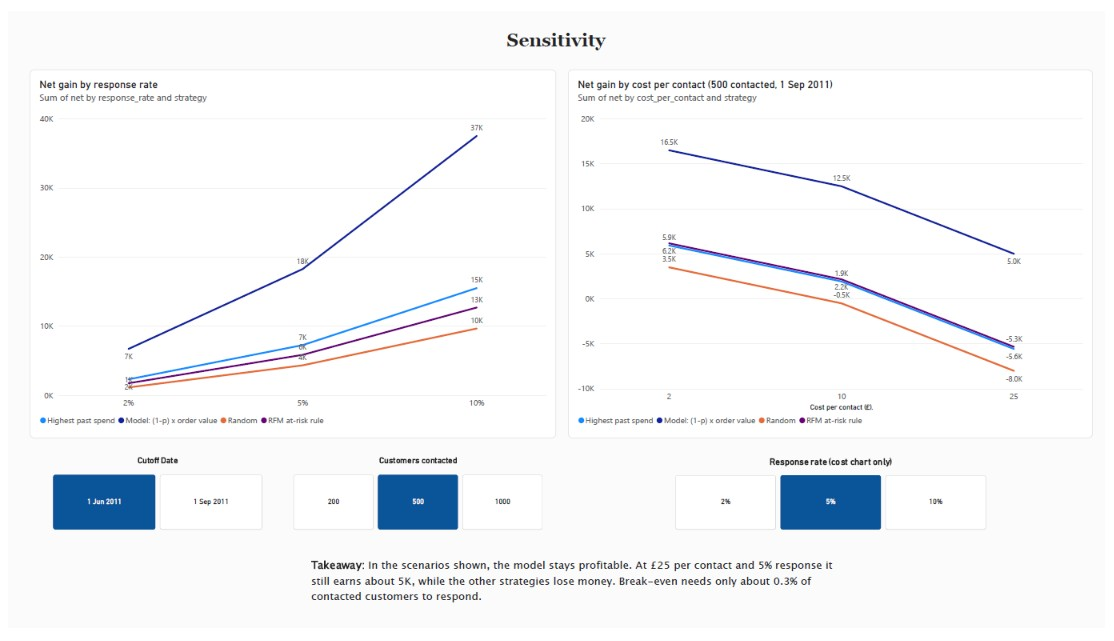

What the dashboard file says about the page in this screenshot:
{"tool":"powerbi","page":{"name":"Sensitivity","canvas":[1920,1080],"ordinal":4},"visuals":[{"type":"textbox","box":[0,33.3,1920,45],"z":0},{"type":"lineChart","title":"Net gain by response rate","fields":{"Category":["backtest_sensitivity.response_rate"],"Series":["backtest_sensitivity.strategy"],"Y":["Sum(backtest_sensitivity.net)"]},"box":[37.5,102.1,922.9,645.8],"z":1000},{"type":"advancedSlicerVisual","title":"Cutoff Date","fields":{"Values":["backtest_sensitivity.cutoff"]},"box":[79.2,779.2,366.7,129.2],"z":2000},{"type":"advancedSlicerVisual","title":"Customers contacted","fields":{"Values":["backtest_sensitivity.n_target"]},"box":[500,779.2,437.5,129.2],"z":3000},{"type":"lineChart","title":"Net gain by cost per contact (500 contacted, 1 Sep 2011)","fields":{"Category":["backtest_cost_sensitivity.cost_per_contact"],"Series":["backtest_cost_sensitivity.strategy"],"Y":["Sum(backtest_cost_sensitivity.net)"]},"box":[981.2,102.1,918.8,645.8],"z":4000},{"type":"advancedSlicerVisual","title":"Response rate (cost chart only)","fields":{"Values":["backtest_cost_sensitivity.response_rate"]},"box":[1168.8,779.2,545,128.3],"z":5000},{"type":"textbox","box":[531.2,956.2,931.2,122.9],"z":5001}]}

Visuals, with their boxes in screenshot pixels (x1, y1, x2, y2), scaled from the page's 1920x1080 canvas onto the 1114x641 screenshot:
textbox: x1=0 y1=20 x2=1113 y2=46
"Net gain by response rate" lineChart: x1=22 y1=61 x2=557 y2=444
"Cutoff Date" advancedSlicerVisual: x1=46 y1=462 x2=259 y2=539
"Customers contacted" advancedSlicerVisual: x1=290 y1=462 x2=544 y2=539
"Net gain by cost per contact (500 contacted, 1 Sep 2011)" lineChart: x1=569 y1=61 x2=1102 y2=444
"Response rate (cost chart only)" advancedSlicerVisual: x1=678 y1=462 x2=994 y2=539
textbox: x1=308 y1=568 x2=848 y2=640
